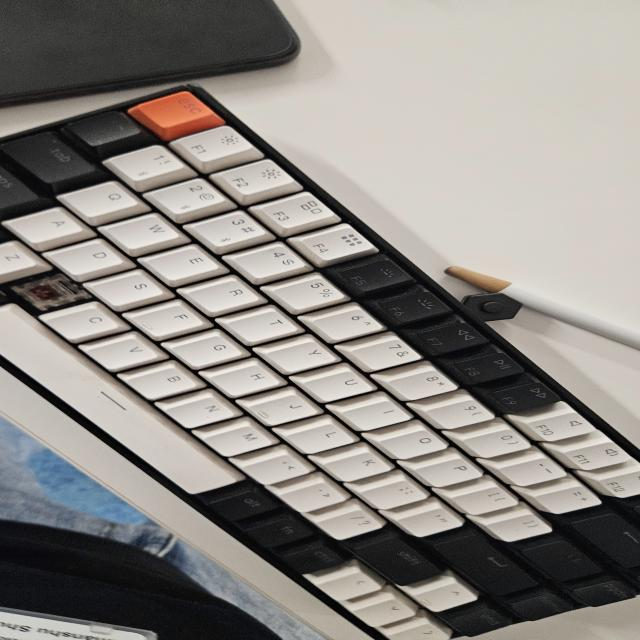C: (19, 285, 70, 304)
